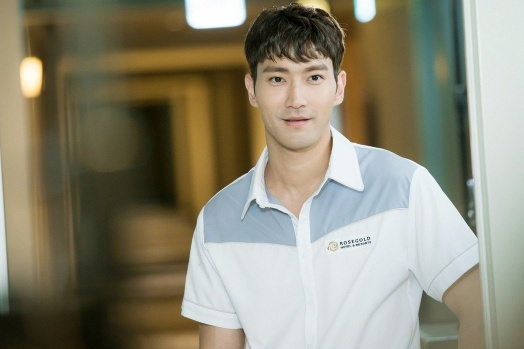male: (231, 6, 361, 163)
